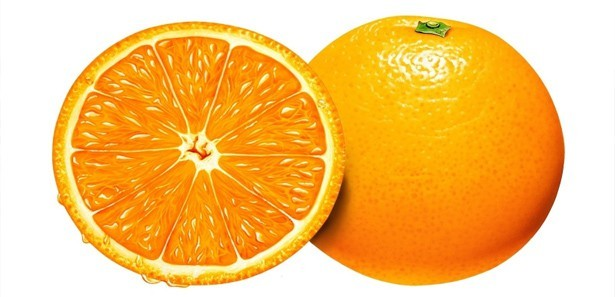orange: (279, 14, 562, 295)
